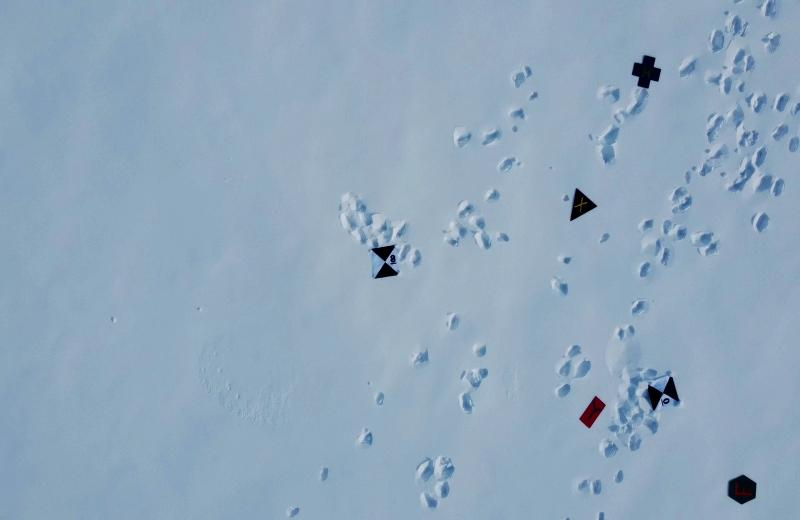Cross: (623, 50, 665, 106)
Hexagon: (716, 471, 767, 513)
Rectangle: (564, 386, 618, 443)
Triangle: (562, 178, 607, 236)
